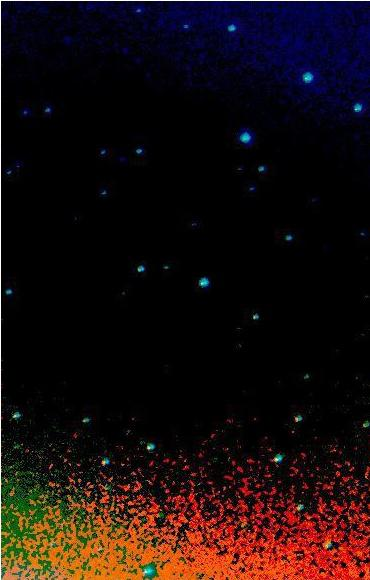star: (0, 481, 28, 511)
